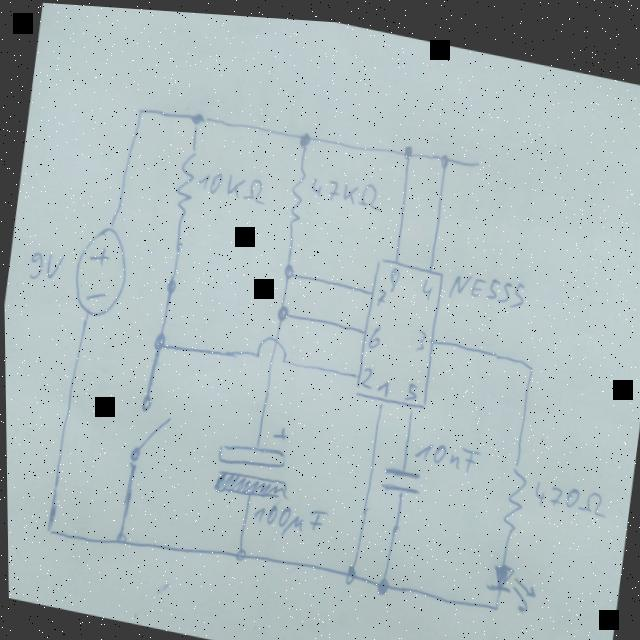capacitor: (209, 430, 291, 501), (377, 457, 421, 495)
crossover: (248, 324, 291, 365)
diode: (480, 550, 538, 609)
junction: (223, 533, 251, 566), (333, 554, 360, 588), (276, 252, 301, 285), (367, 564, 392, 596), (268, 296, 293, 324), (106, 522, 130, 551), (395, 131, 418, 161), (291, 121, 316, 148), (183, 103, 208, 129), (37, 511, 59, 540), (148, 326, 169, 355), (158, 268, 179, 297), (433, 140, 454, 167), (518, 346, 539, 373), (130, 98, 151, 124), (484, 588, 500, 610)
resistor: (489, 446, 535, 544), (168, 141, 198, 218), (281, 154, 309, 233)
source: (65, 216, 133, 322)
switch: (121, 385, 175, 473)
text: (528, 467, 613, 519), (249, 491, 328, 539), (445, 260, 527, 303), (308, 165, 385, 209), (195, 162, 269, 202), (411, 429, 480, 469), (24, 245, 65, 288), (364, 317, 381, 345), (385, 259, 400, 289), (418, 270, 433, 295), (401, 374, 417, 397), (412, 321, 426, 347), (358, 360, 373, 384), (374, 372, 388, 392), (373, 281, 386, 302)
